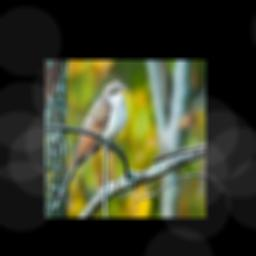Cuckoo: (53, 80, 129, 209)
